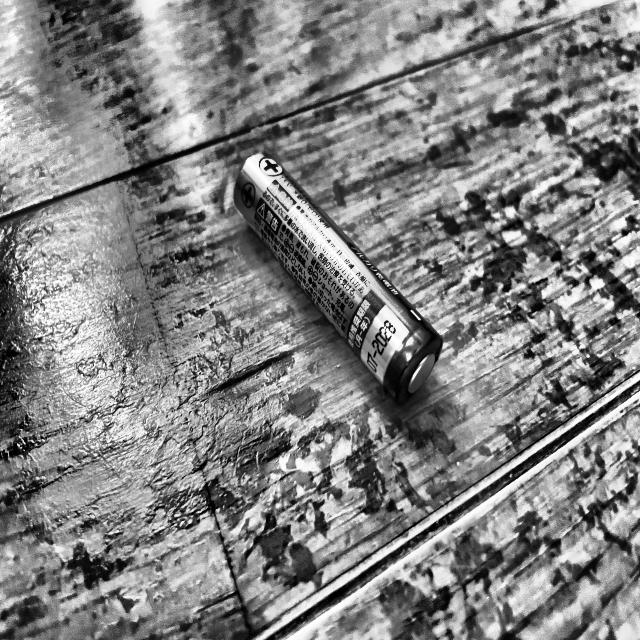drycell: (224, 138, 446, 413)
